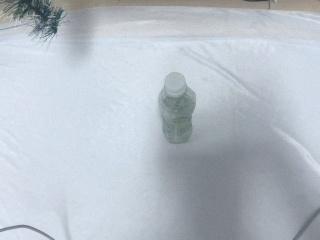bottle: (159, 71, 197, 145)
